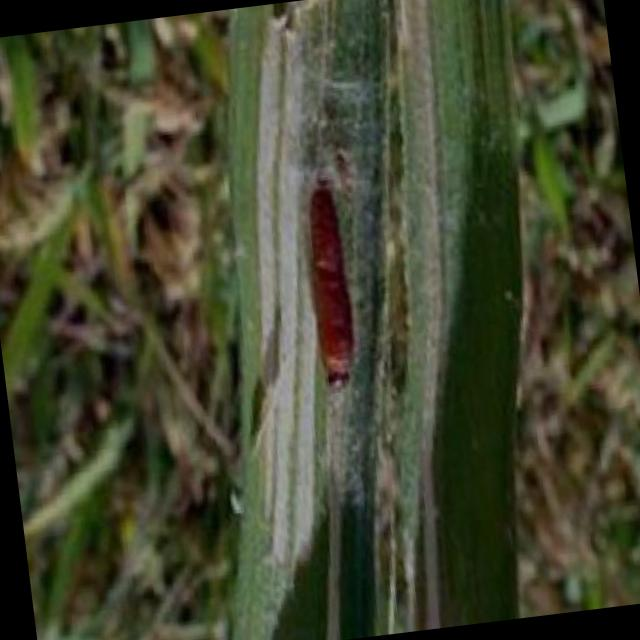leaf-folder: (276, 160, 392, 408)
